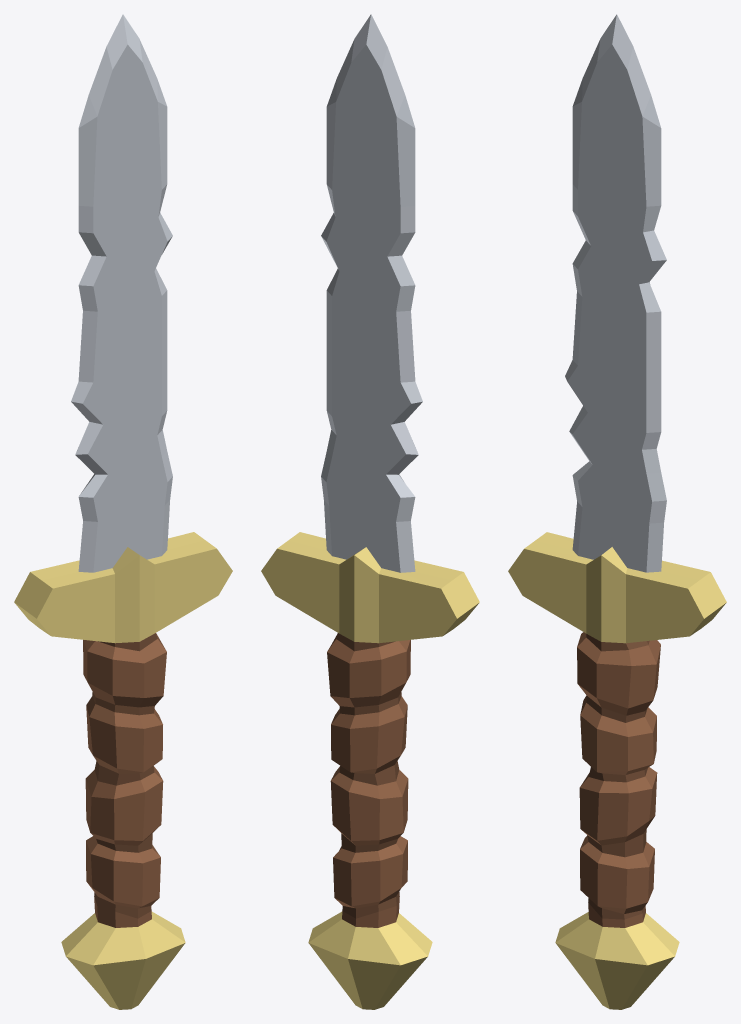
The model's file is Q_Dagger_2-BggwHXdf.glb.
3 renders of one model, left to right at view 1: azimuth 30°, elevation 25°; view 2: azimuth 150°, elevation 25°; view 3: azimuth 330°, elevation 25°, orthographic.
Parts seen in each view (by area): view 1: Dagger_2; view 2: Dagger_2; view 3: Dagger_2.
Part boxes in pixels (bbox=[...]): Dagger_2: bbox=[14, 14, 232, 1009]; Dagger_2: bbox=[261, 14, 479, 1009]; Dagger_2: bbox=[508, 14, 726, 1009].
Bounding box in the file's own units: 0.644 × 3.11 × 0.2564.
